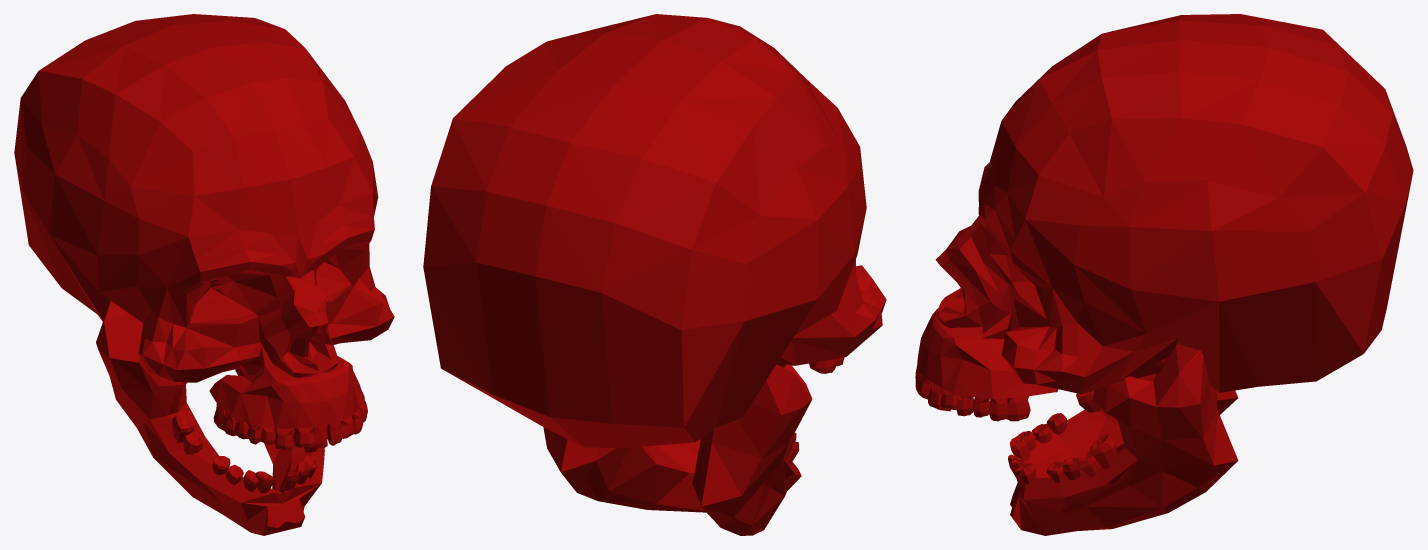
File: GenerateurBille.obj
The picture shows the model from 3 angles, left to right: view 1: azimuth 30°, elevation 25°; view 2: azimuth 150°, elevation 25°; view 3: azimuth 270°, elevation 25°; orthographic projection. The views are drawn at different scales.
Visible parts, largest first — view 1: Lebka01, Spodni_celist_01; view 2: Lebka01, Spodni_celist_01; view 3: Lebka01, Spodni_celist_01.
Part boxes in pixels (x1,y1,x2,y2): Lebka01: [14, 14, 394, 450]; Spodni_celist_01: [96, 300, 324, 535]; Lebka01: [423, 14, 886, 447]; Spodni_celist_01: [543, 364, 812, 535]; Lebka01: [915, 14, 1413, 421]; Spodni_celist_01: [1008, 344, 1238, 535].
Bounding box in the file's own units: 54.35 × 78.37 × 72.99.
